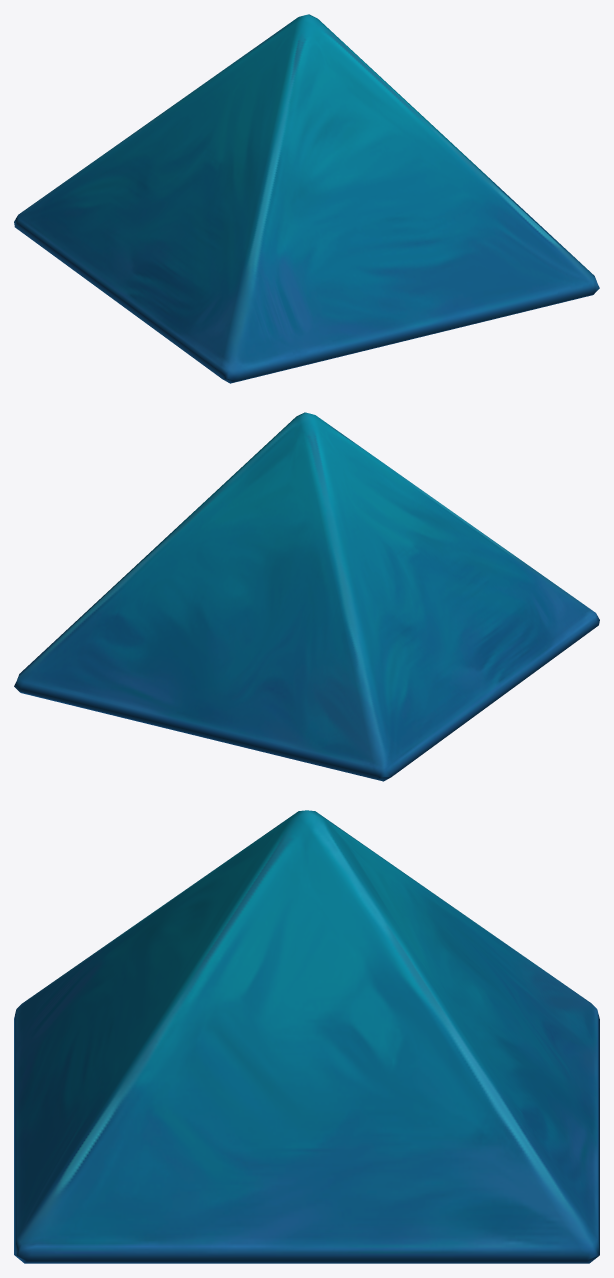
File: TopColumn_v1.fbx
3 views of the same model, one above another, from view 1: azimuth 30°, elevation 25°; view 2: azimuth 150°, elevation 25°; view 3: azimuth 270°, elevation 25° (orthographic). The views are drawn at different scales.
Parts seen in each view (by area): view 1: TopColumn_v1; view 2: TopColumn_v1; view 3: TopColumn_v1.
Boxes of the visible parts, box(x1,y1,x2,y2) form: TopColumn_v1: box(14, 14, 599, 383); TopColumn_v1: box(14, 412, 599, 781); TopColumn_v1: box(14, 810, 599, 1263).
Bounding box in the file's own units: 104 × 65.49 × 104.
